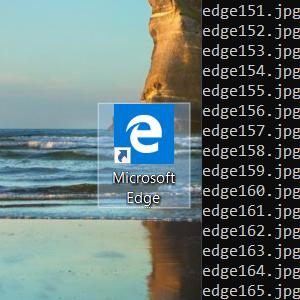edge: (114, 104, 173, 164)
